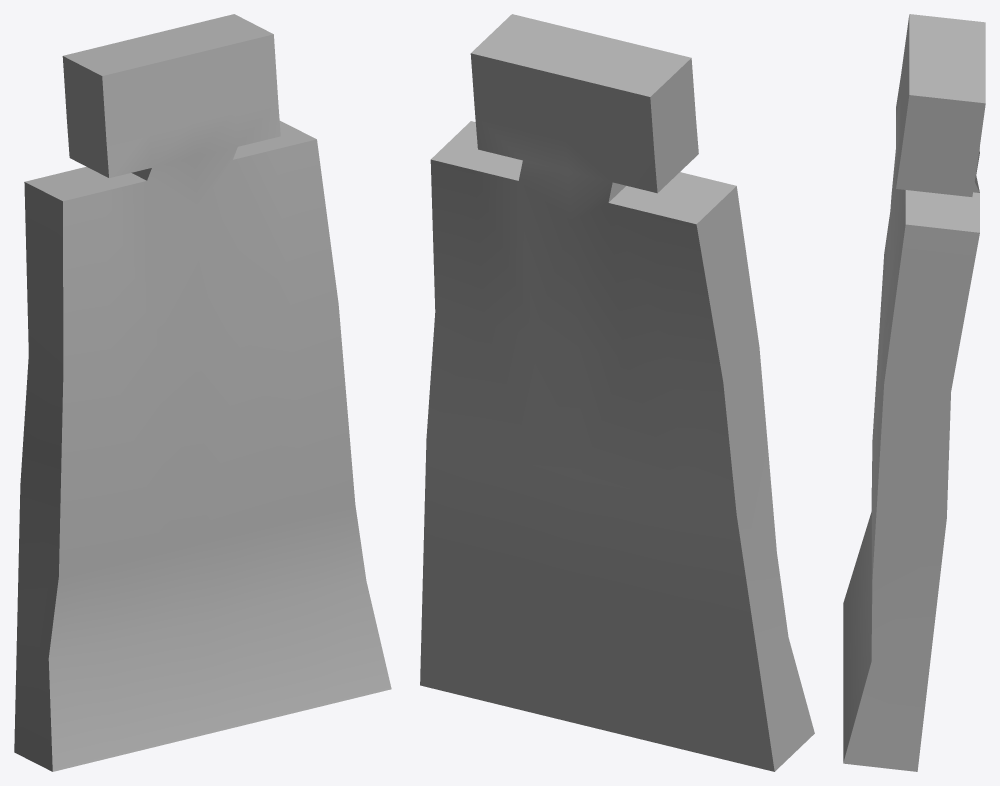
File: CryoPodPillow.glb
The picture shows the model from 3 angles, left to right: view 1: azimuth 30°, elevation 25°; view 2: azimuth 150°, elevation 25°; view 3: azimuth 270°, elevation 25°; orthographic projection. The views are drawn at different scales.
Parts seen in each view (by area): view 1: CryoPillow; view 2: CryoPillow; view 3: CryoPillow.
Part boxes in pixels (x1,y1,x2,y2): CryoPillow: [14, 14, 391, 771]; CryoPillow: [420, 14, 814, 771]; CryoPillow: [843, 14, 985, 771].
Bounding box in the file's own units: 1.21 × 2.24 × 0.4542.
1 material, 1 textured.
